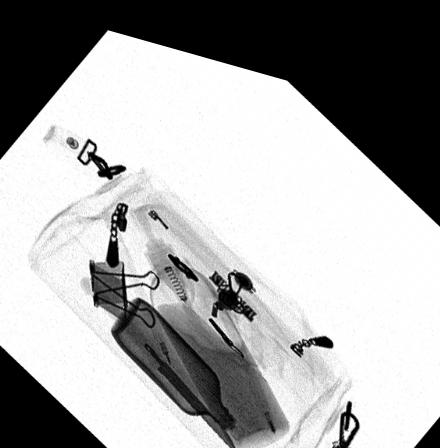Knife: (78, 269, 238, 443)
